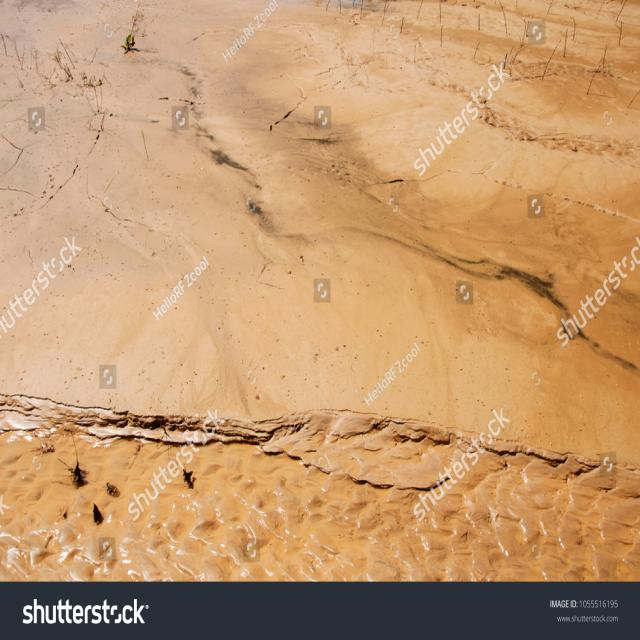Alluvial Soil: (64, 93, 565, 516)
